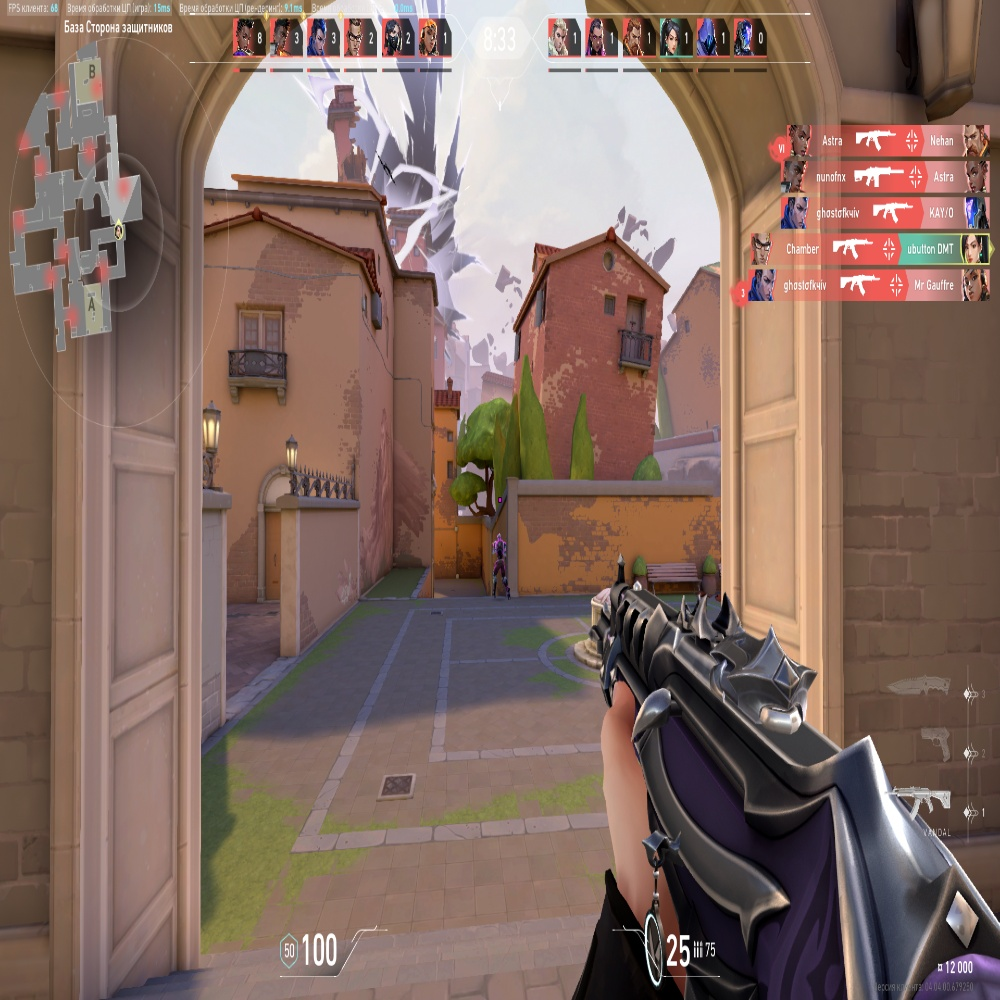body: (493, 541, 506, 562)
head: (496, 532, 501, 540)
